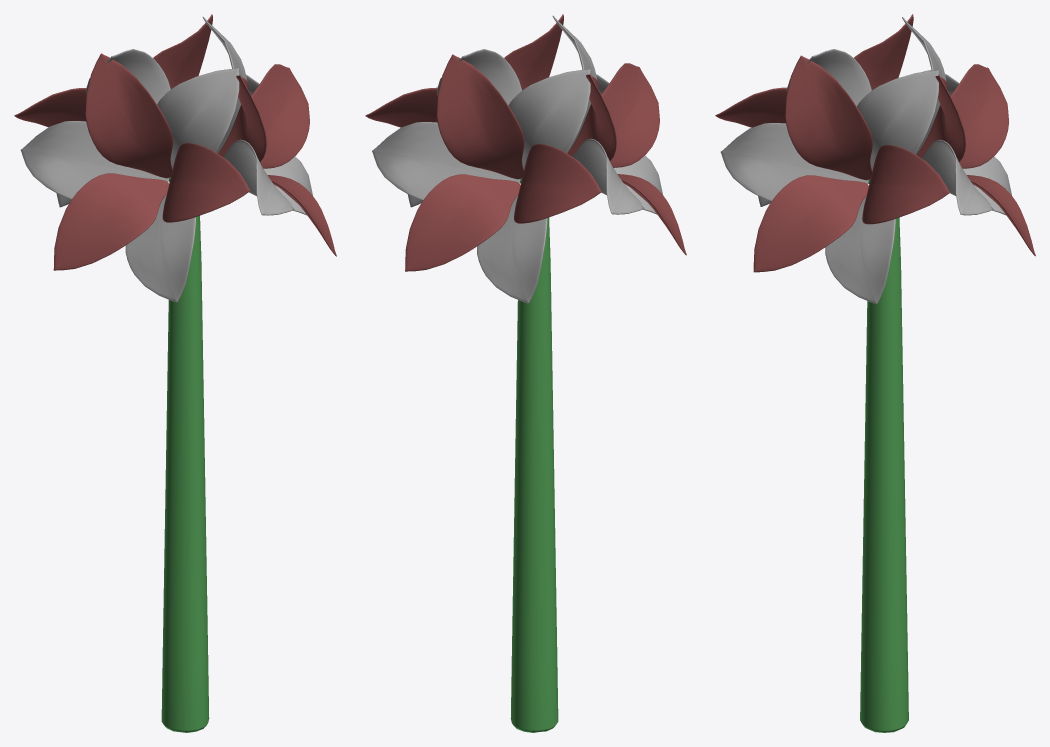
The model's file is Low_Flower.fbx.
3 views of the same model, side by side, from view 1: azimuth 30°, elevation 25°; view 2: azimuth 150°, elevation 25°; view 3: azimuth 270°, elevation 25° (orthographic).
Parts seen in each view (by area): view 1: Lo_TopPetals (×3), Lo_BottomPetals (×3), Lo_Stem; view 2: Lo_TopPetals (×3), Lo_BottomPetals (×3), Lo_Stem; view 3: Lo_TopPetals (×3), Lo_BottomPetals (×3), Lo_Stem.
Part boxes in pixels (x1,y1,x2,y2): Lo_TopPetals (×3): (14, 14, 336, 270); Lo_BottomPetals (×3): (20, 17, 312, 302); Lo_Stem: (161, 215, 209, 732); Lo_TopPetals (×3): (365, 14, 686, 271); Lo_BottomPetals (×3): (372, 16, 662, 303); Lo_Stem: (510, 217, 558, 732); Lo_TopPetals (×3): (715, 14, 1035, 272); Lo_BottomPetals (×3): (720, 17, 1011, 304); Lo_Stem: (860, 217, 908, 732).
Size of the model in its own units: 276 by 639 by 274.
